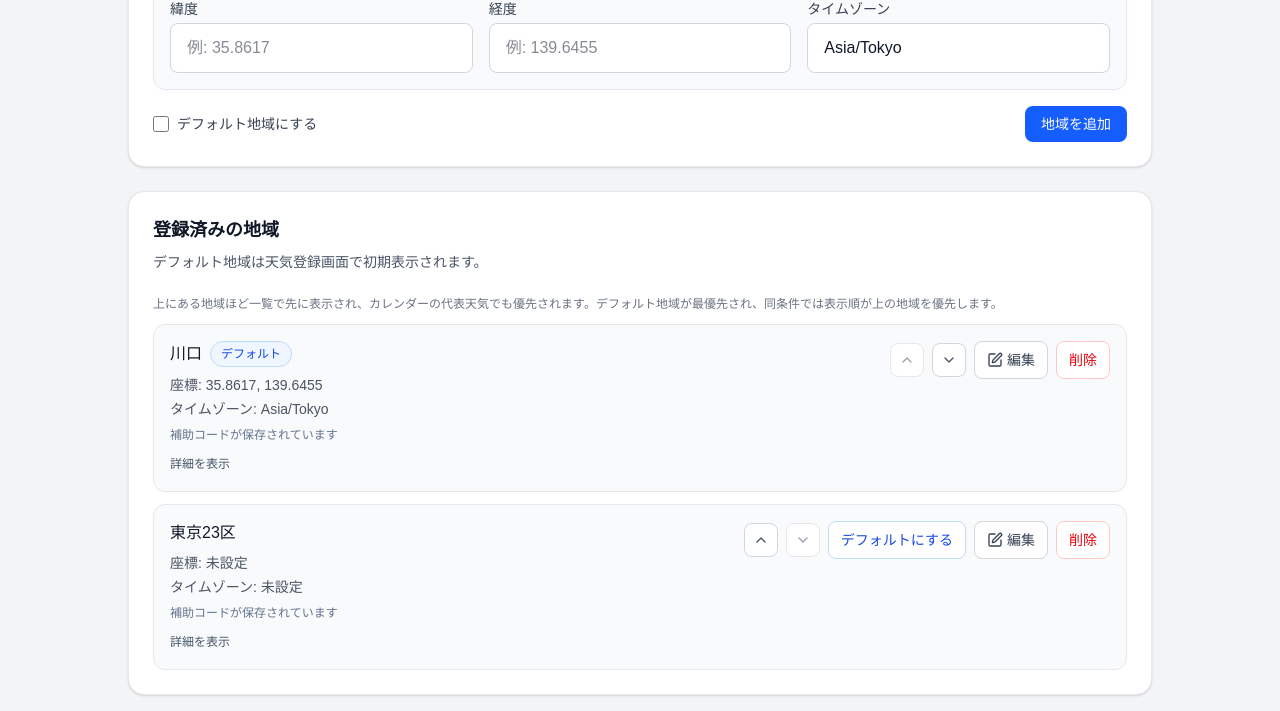
Test: SettingsWeatherLocationsPage › 削除確認でキャンセルするとDELETEしない
(page scrolled)
Click the button "削除" in the row of "川口".
click(1083, 360)  # box [1056,341,1110,379]
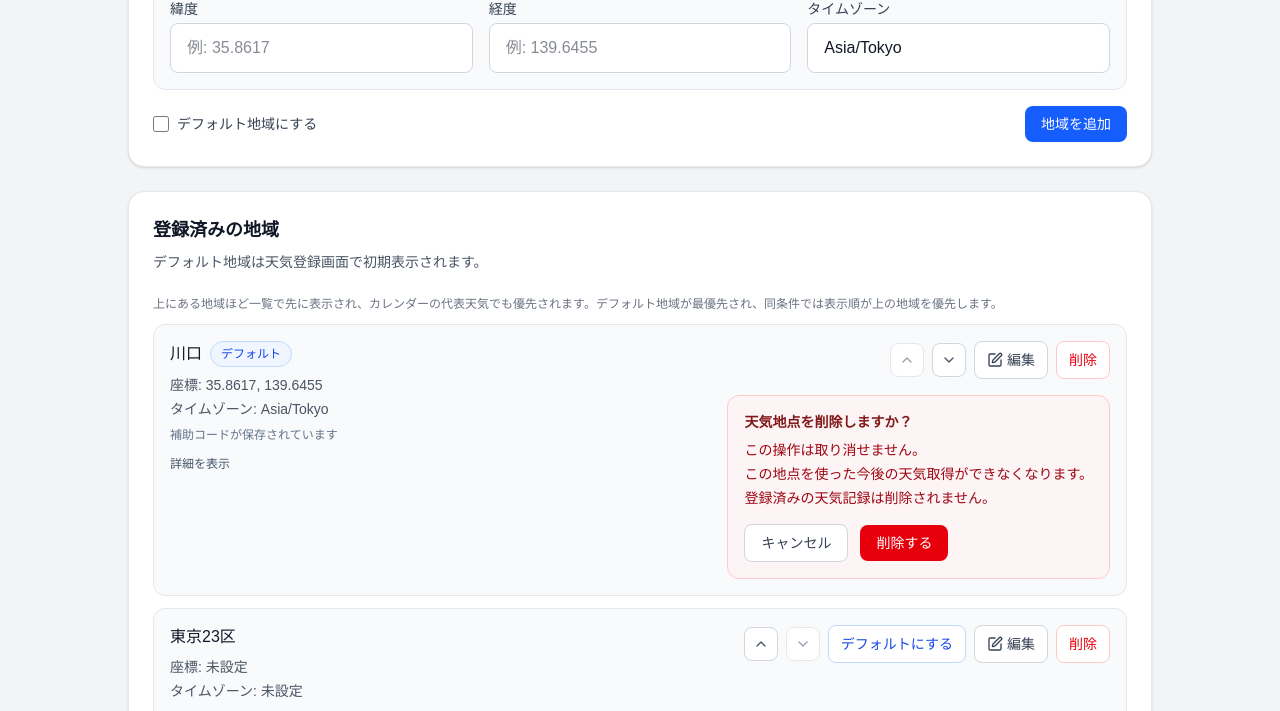
Click the button "キャンセル".
click(796, 543)  # box [744,524,848,562]
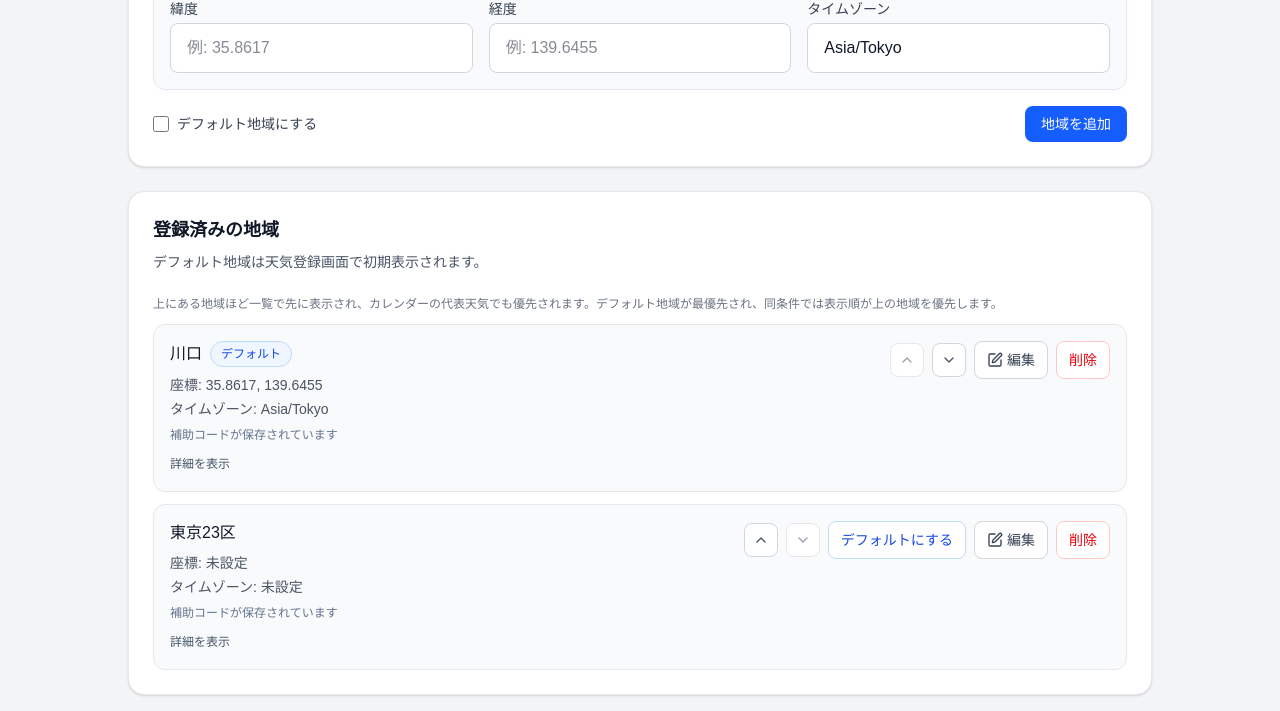
Expected: the text "天気地点を削除しますか？" is gone
